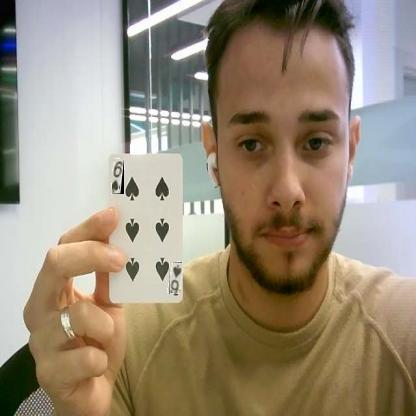6S: (112, 159, 124, 194), (169, 262, 182, 294)
